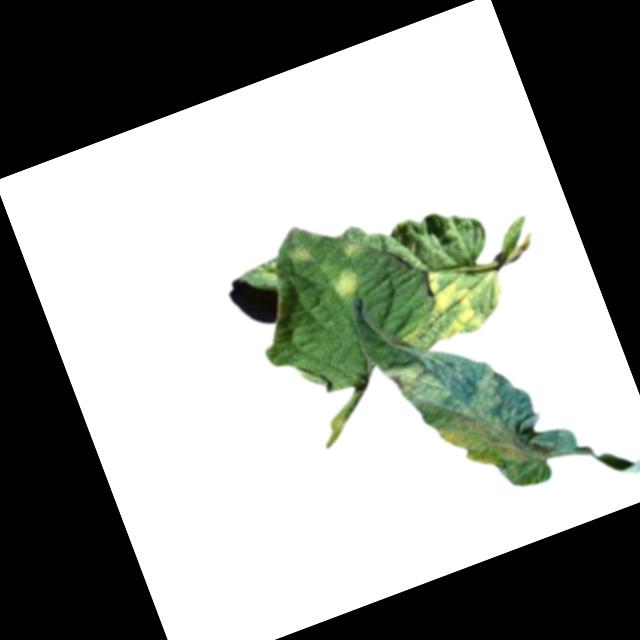Leaf_Mold: (432, 395, 531, 485), (417, 259, 487, 342), (380, 347, 452, 409), (328, 261, 367, 303), (339, 232, 368, 260), (285, 240, 313, 267)
